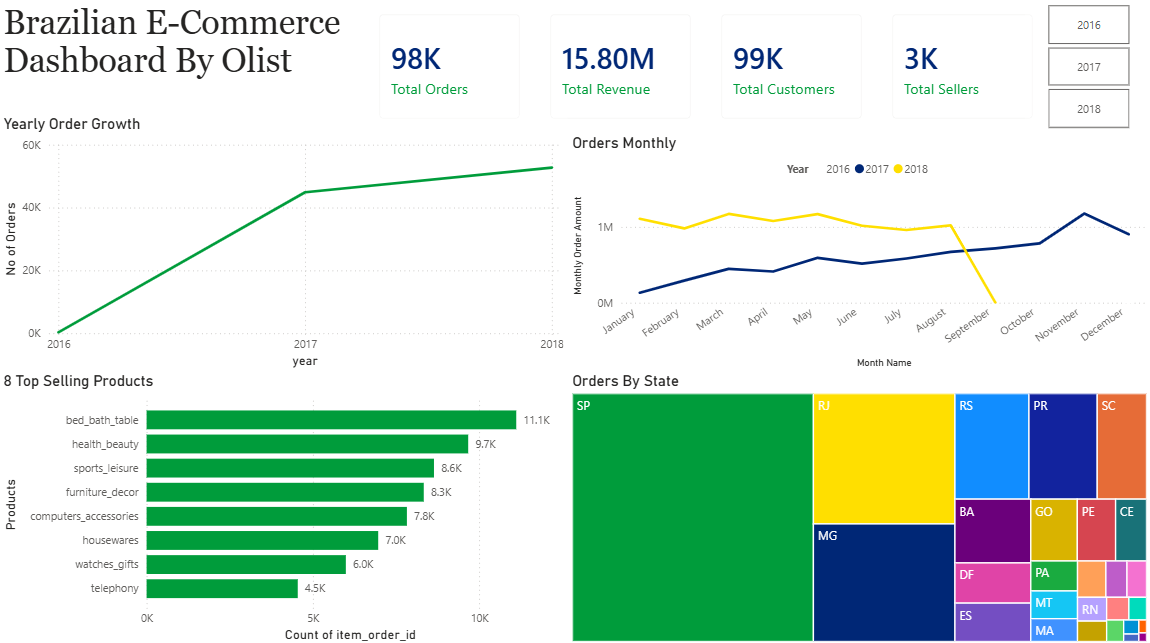

What the dashboard file says about the page in this screenshot:
{"tool":"powerbi","page":{"name":"Business Overview","canvas":[1280,720],"ordinal":0},"visuals":[{"type":"cardVisual","fields":{"Data":["Gold fact_payments.Total Revenue"]},"box":[595,0,190,150],"z":0},{"type":"cardVisual","fields":{"Data":["Gold dim_customer.Total Customers"]},"box":[785,0,190,150],"z":1000},{"type":"cardVisual","fields":{"Data":["Gold dim_order.Total Orders"]},"box":[405,0,190,150],"z":2000},{"type":"cardVisual","fields":{"Data":["Gold dim_seller.Total Sellers"]},"box":[975,0,190,150],"z":3000},{"type":"lineChart","title":"Orders Monthly","fields":{"Y":["Sum(Gold fact_payments.payment_value)"],"Series":["Gold dim_date.year"],"Category":["Gold dim_date.Month Name"]},"box":[632.2,150,647.8,264.4],"z":4000},{"type":"clusteredBarChart","title":"8 Top Selling Products","fields":{"Category":["Gold dim_products.product_category_name"],"Y":["CountNonNull(Gold fact_order_items.item_order_id)"]},"box":[0,414.4,632.2,304.4],"z":5000},{"type":"treemap","title":"Orders By State","fields":{"Group":["Gold dim_customer.state"],"Values":["CountNonNull(Gold dim_order.order_id)"]},"box":[632.2,414.4,647.8,304.4],"z":6000},{"type":"slicer","fields":{"Values":["Gold dim_date.year"]},"box":[1140,0,140,150],"z":7000},{"type":"lineChart","title":"Yearly Order Growth","fields":{"Category":["Gold dim_date.year"],"Y":["CountNonNull(Gold dim_order.order_id)"]},"box":[0,128.9,632.2,285.6],"z":8000},{"type":"textbox","box":[0,0,405,128.8],"z":9000}]}

Visuals, with their boxes in screenshot pixels (x1, y1, x2, y2), scaled from the page's 1280x720 canvas onto the 1150x643 screenshot:
cardVisual - Gold fact_payments.Total Revenue: pyautogui.locateOnScreen(535, 0, 705, 134)
cardVisual - Gold dim_customer.Total Customers: pyautogui.locateOnScreen(705, 0, 876, 134)
cardVisual - Gold dim_order.Total Orders: pyautogui.locateOnScreen(364, 0, 535, 134)
cardVisual - Gold dim_seller.Total Sellers: pyautogui.locateOnScreen(876, 0, 1047, 134)
"Orders Monthly" lineChart: pyautogui.locateOnScreen(568, 134, 1149, 370)
"8 Top Selling Products" clusteredBarChart: pyautogui.locateOnScreen(0, 370, 568, 642)
"Orders By State" treemap: pyautogui.locateOnScreen(568, 370, 1149, 642)
slicer - Gold dim_date.year: pyautogui.locateOnScreen(1024, 0, 1149, 134)
"Yearly Order Growth" lineChart: pyautogui.locateOnScreen(0, 115, 568, 370)
textbox: pyautogui.locateOnScreen(0, 0, 364, 115)
